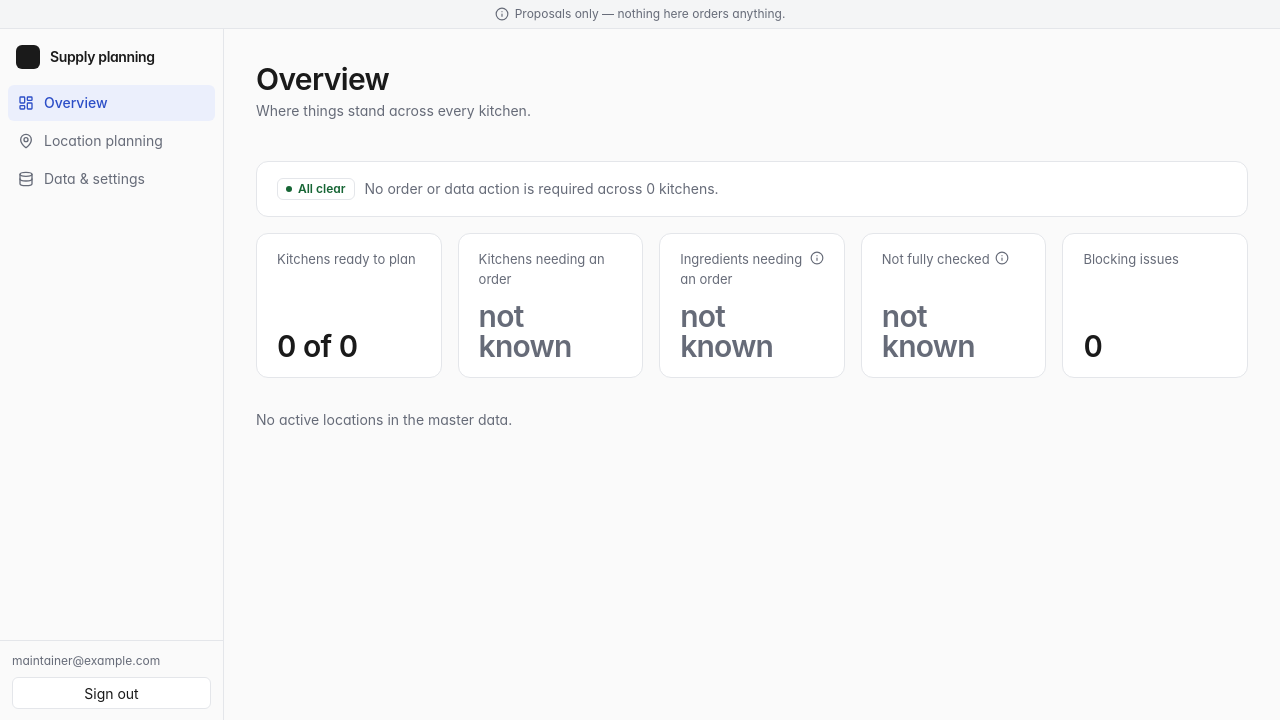
Test: session cache ownership › clears cached domain data when the maintainer signs out
Expected: the text "Proposals only — nothing here orders anything." is shown, [0,0,1279,29]
Step 1. Click the button "Sign out" → x=112, y=693, box [12,677,211,709]
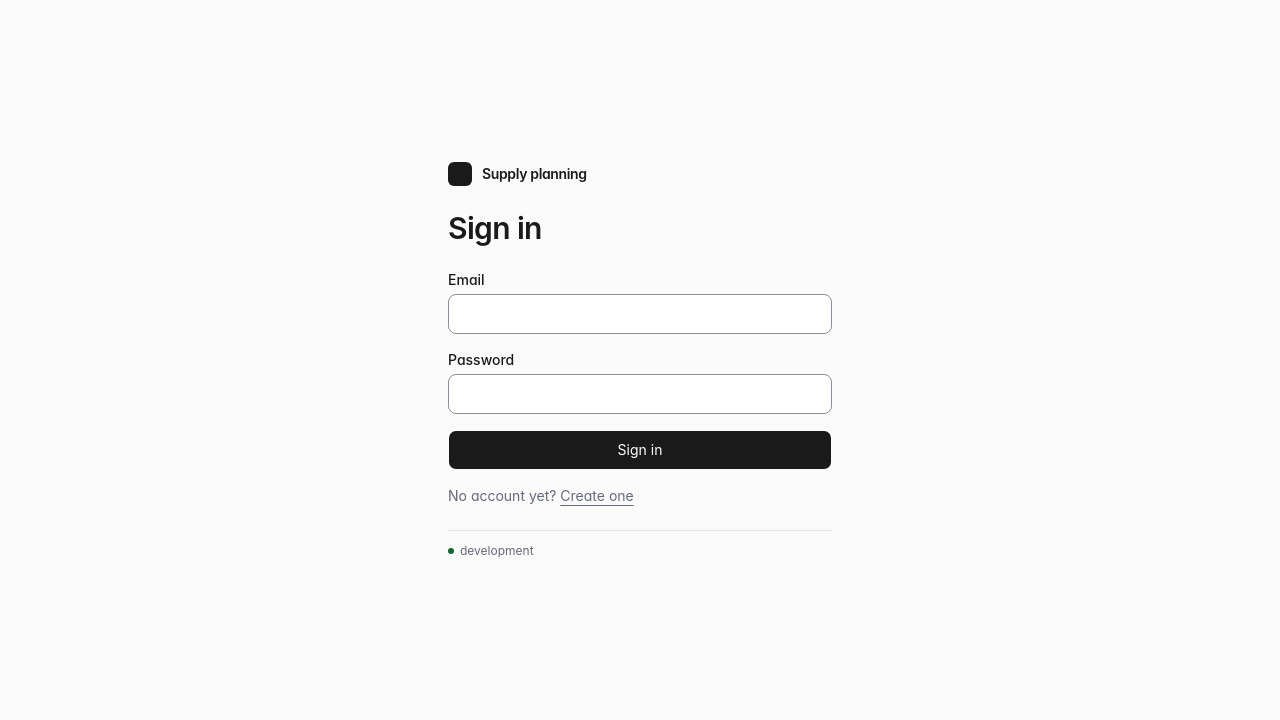
Result: the heading "Sign in" is shown at [448,210,542,246]
